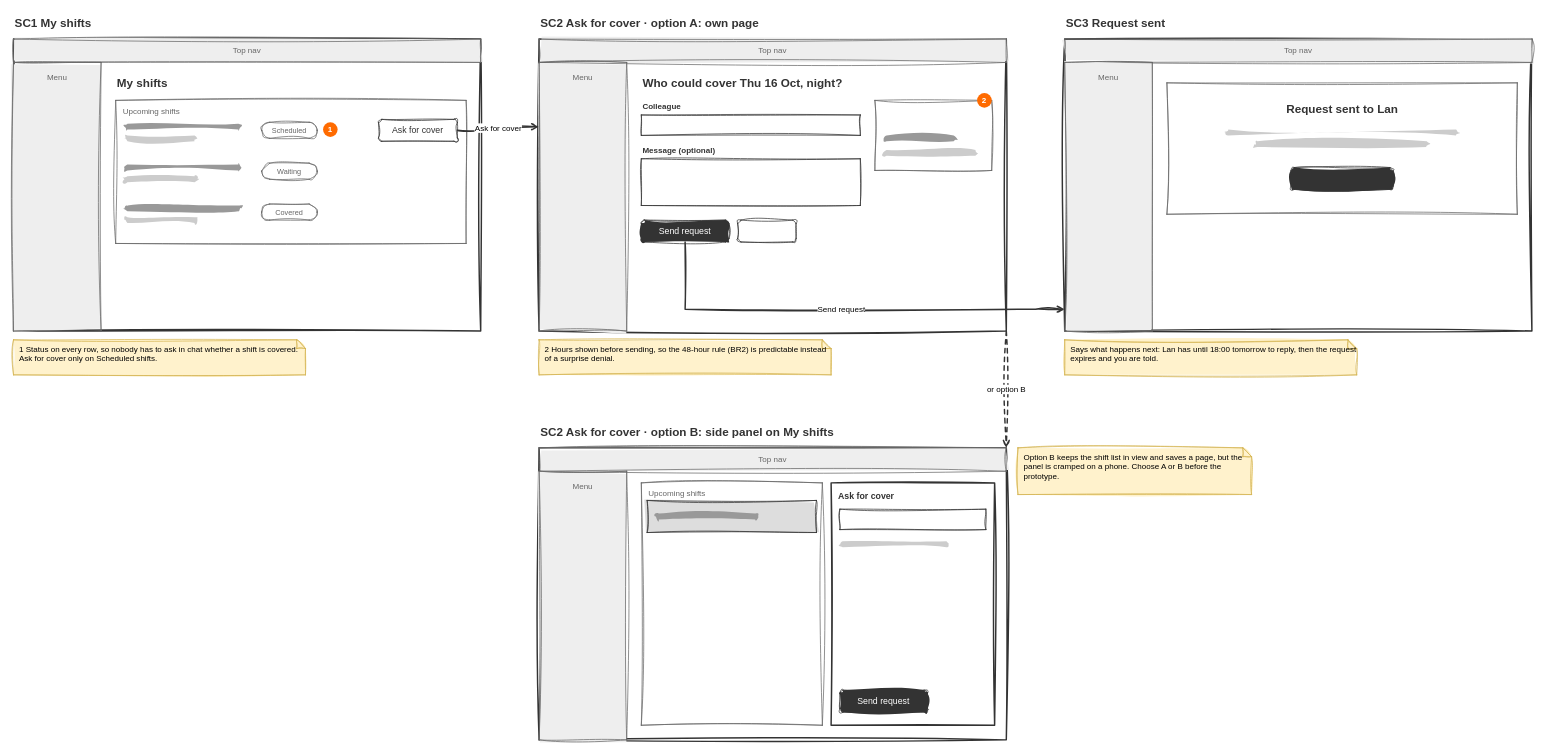
Some shapes in this 1545 by 753 pixel diagram are drawn without their labels. Here are the shapes that lost their labels. From the top down, the box of each, then its label:
(641, 114, 860, 135): Choose a qualified colleague ▾
(874, 100, 992, 170): Colleague's hours this week
(1290, 167, 1393, 189): Back to my shifts
(737, 219, 796, 242): Cancel
(839, 508, 986, 530): Choose a colleague ▾
